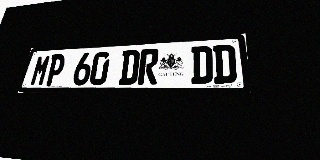0: (88, 51, 111, 85)
6: (71, 52, 94, 85)
D: (213, 44, 237, 84), (191, 46, 213, 84), (118, 50, 140, 85)
M: (29, 55, 52, 86)
P: (44, 54, 67, 86)
R: (137, 49, 159, 85)
